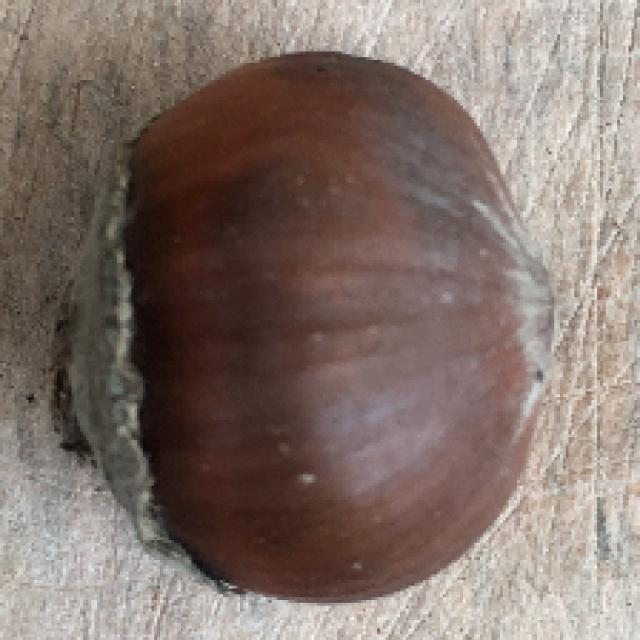damagedHazelnut: (51, 54, 568, 606)
